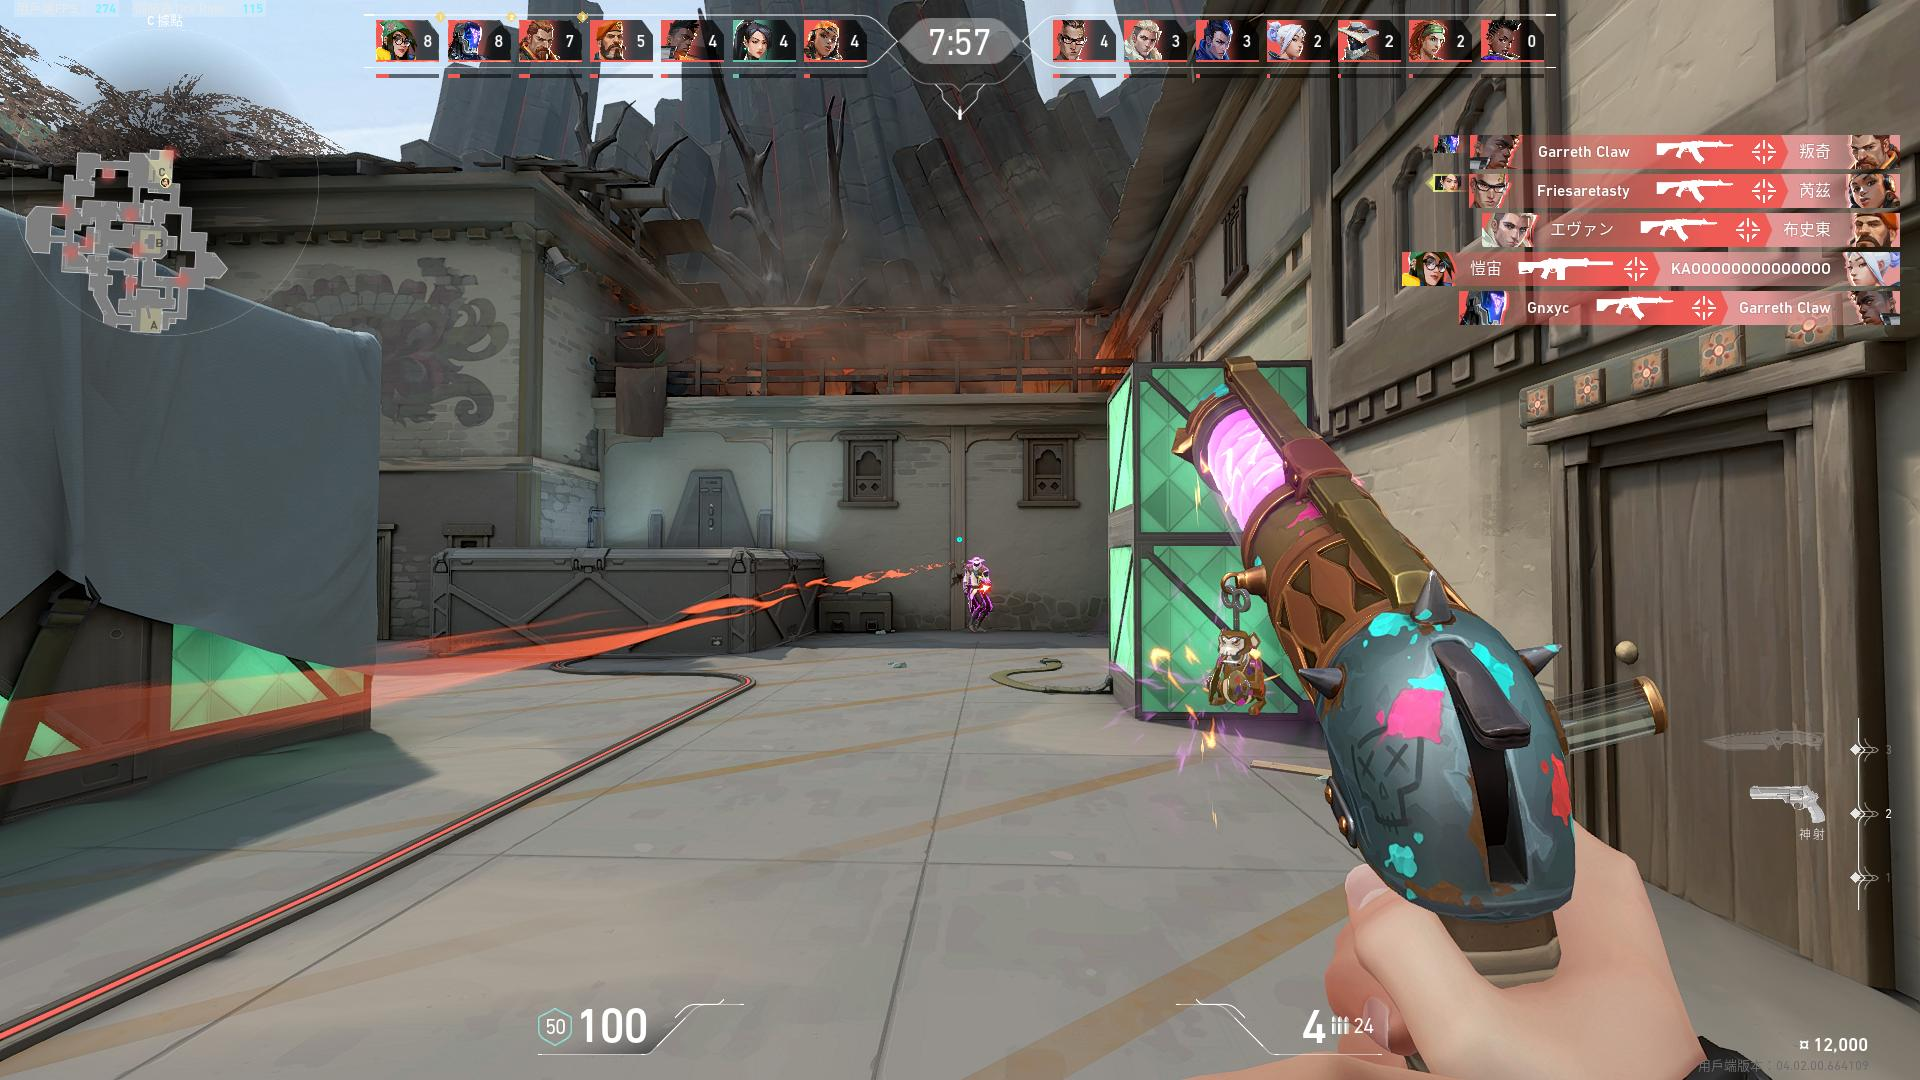enemyBody: (971, 568, 982, 589)
enemyHead: (975, 560, 978, 567)
